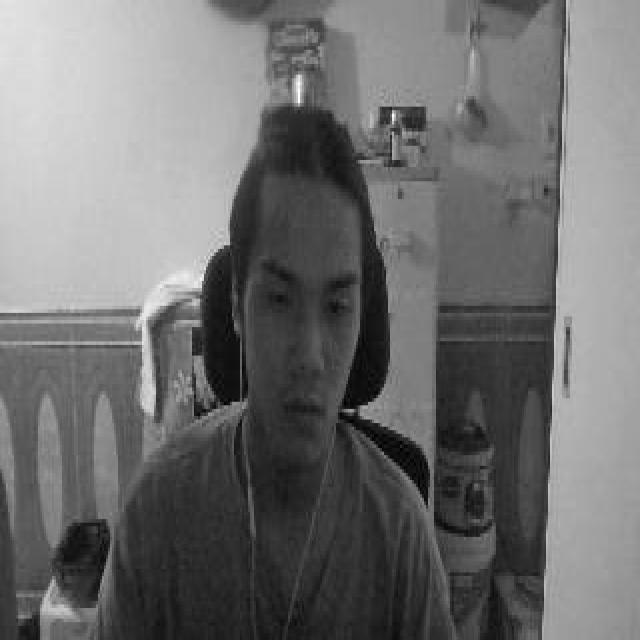Focused: (244, 162, 360, 485)
